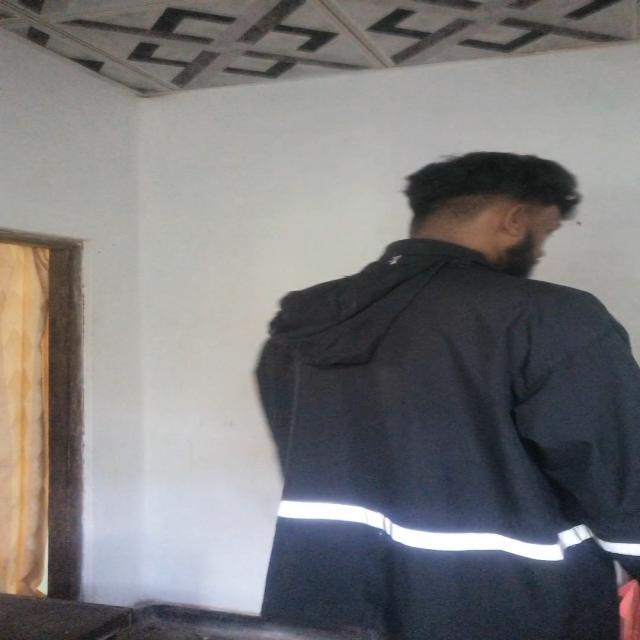Jacket_Wearer: (231, 226, 640, 640)
